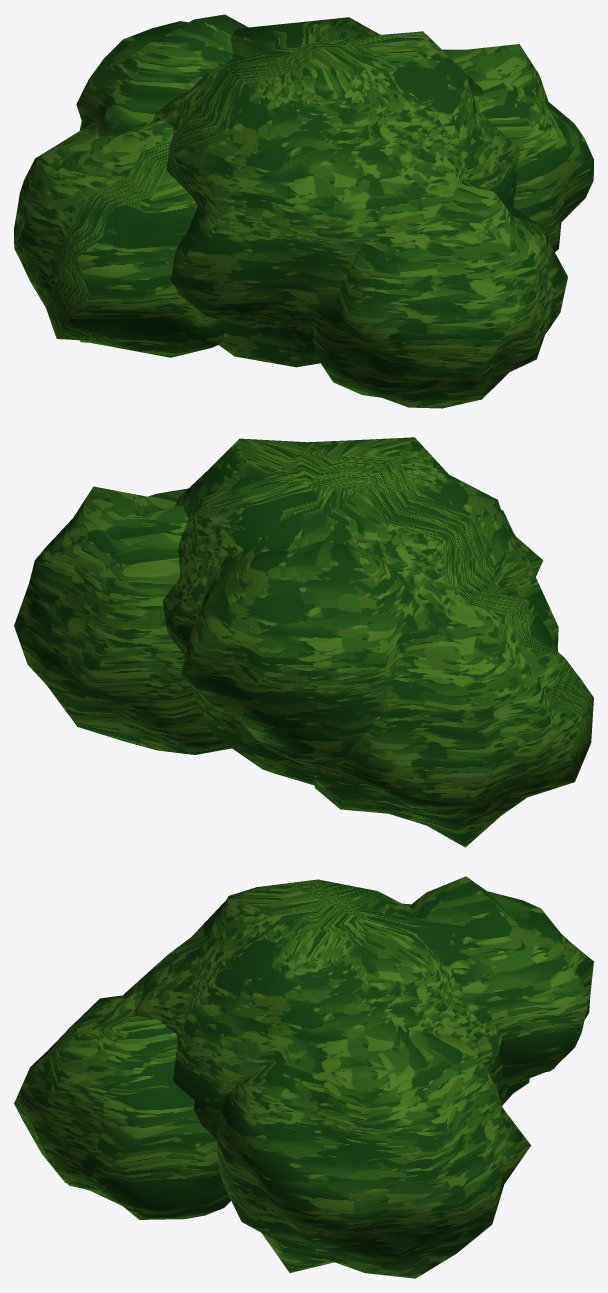
The model's file is bush3_custom.glb.
The picture shows the model from 3 angles, top to bottom: view 1: azimuth 30°, elevation 25°; view 2: azimuth 150°, elevation 25°; view 3: azimuth 270°, elevation 25°; orthographic projection. The views are drawn at different scales.
Visible parts, largest first — view 1: bush3_custom; view 2: bush3_custom; view 3: bush3_custom.
Boxes of the visible parts, x1,y1,x2,y2 form: bush3_custom: (14,14,593,408); bush3_custom: (14,437,593,847); bush3_custom: (14,876,593,1278).
Bounding box in the file's own units: 1.57 × 0.8349 × 1.49.
Materials: 1 (1 with a texture image).
